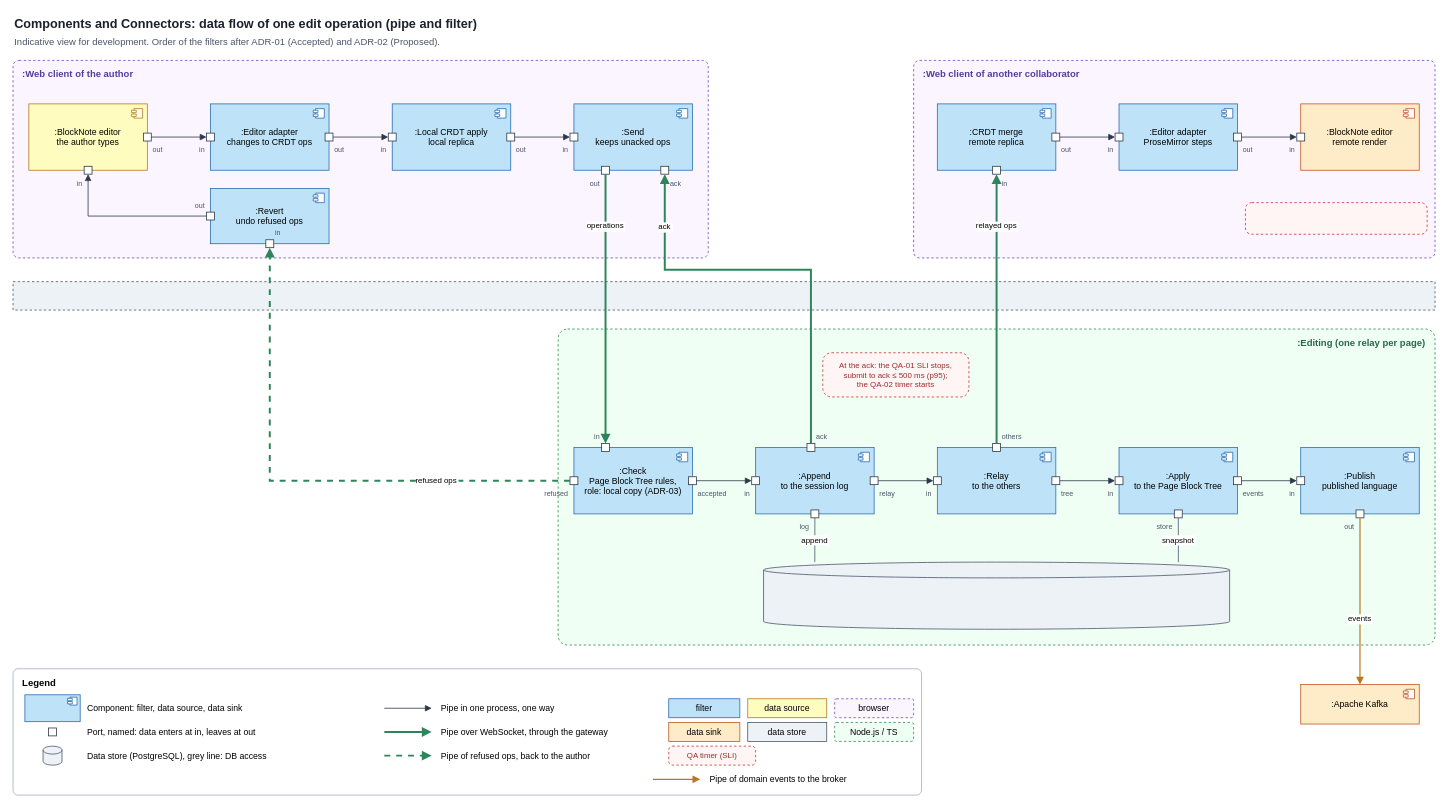
Image size: 1448x808. Some labels were removed from this diagram. The shapes that lost their labels are listed below. From the top down, each one's centre as x and y in pixels, then its label:
pixel 1336 218: QA-02 stops at the remote render: ≤ 300 ms (p95), ≤ 1 s (p99)
pixel 723 295: API Gateway (Go): the WebSocket pipes pass through it
pixel 996 595: :Editing store session log (Event Sourcing) + snapshots of the Page Block Tree
pixel 52 708: :Name
